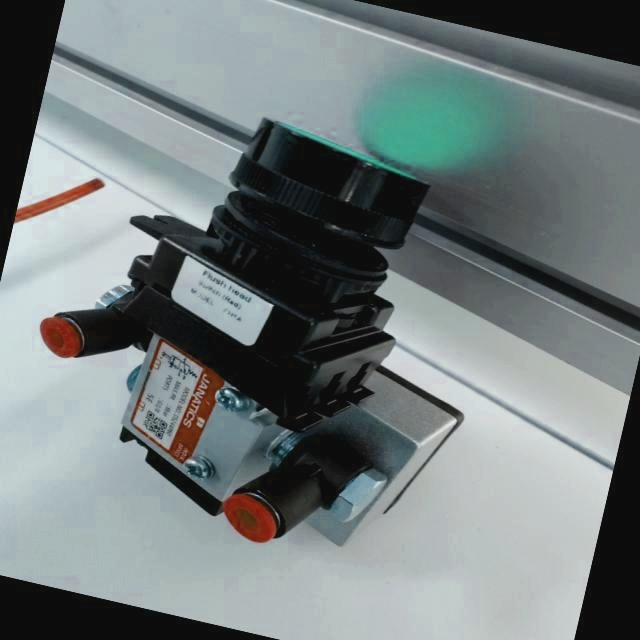push button: (3, 76, 521, 580)
